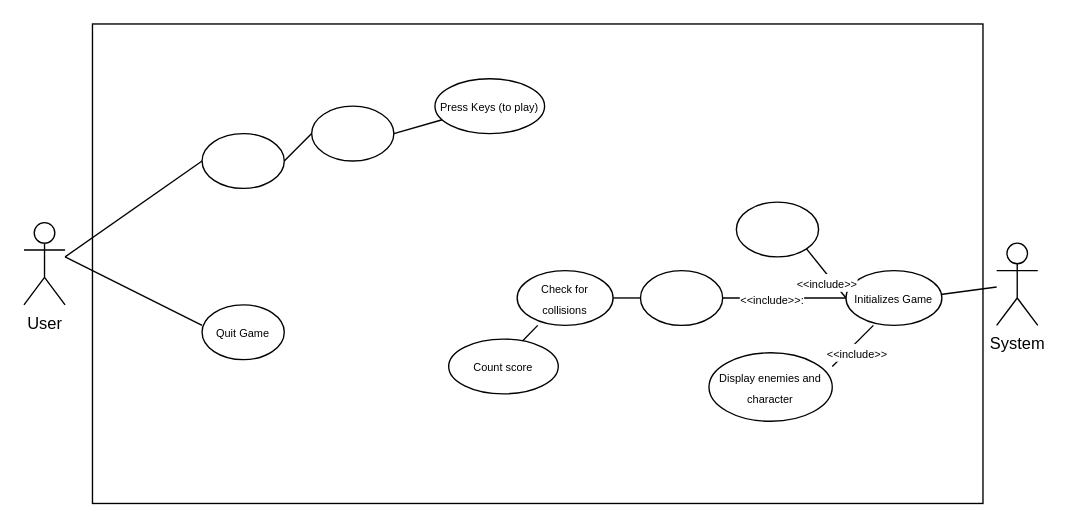
Image size: 1069x527. Some labels were removed from this diagram. Each missing label, with the box of its shape:
Choose Character: (310, 105, 394, 161)
Display World: (735, 201, 819, 257)
Play Game: (201, 132, 284, 188)
Process key pressed: (639, 269, 723, 325)
